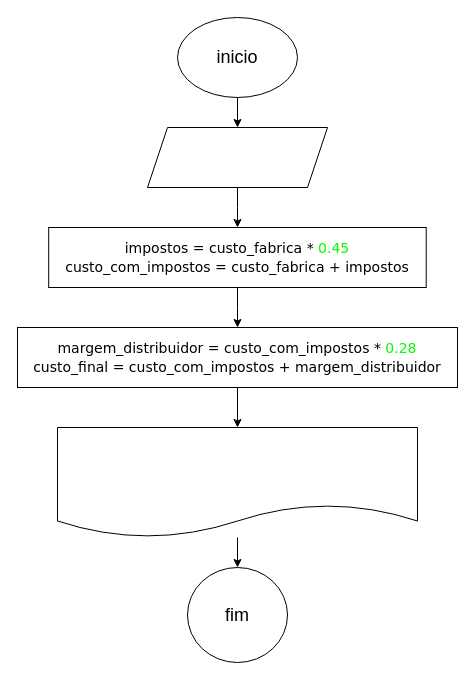
This 475x680 diagram has some shape labels left out. The shapes that lost their labels are listed below. From the top down, each one's centre as x and y in pixels, then its label:
pixel 237 157: custo_fabrica
pixel 237 482: impostos, custo_com_impostos margem_distribuidor , custo_final
